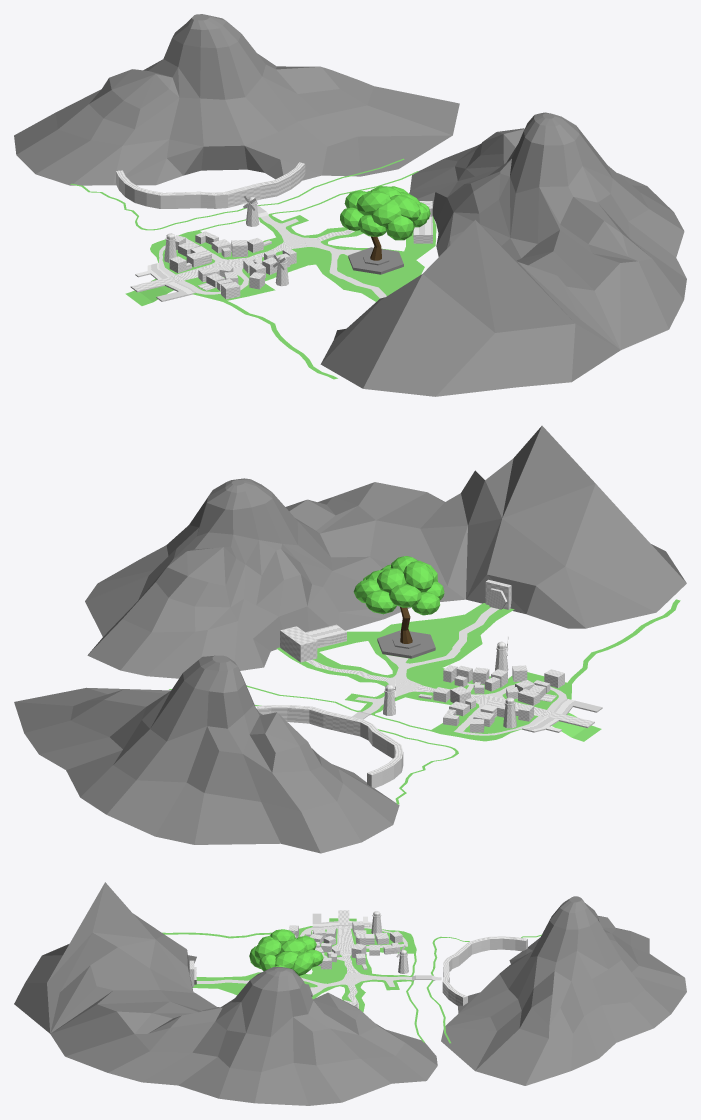
The model's file is main_map_pre-alpha.fbx.
3 views of the same model, one above another, from view 1: azimuth 30°, elevation 25°; view 2: azimuth 150°, elevation 25°; view 3: azimuth 270°, elevation 25° (orthographic). The views are drawn at different scales.
Parts seen in each view (by area): view 1: Cone.002, Cone.001, Plane.003, Icosphere.005, Cube.017, Plane, Cube.005, Plane.004; view 2: Cone.002, Cone.001, Plane.003, Icosphere.005, Plane, Cube.017, Cube.018, Cube.005, Plane.004; view 3: Cone.002, Cone.001, Plane.003, Icosphere.005, Plane, Cube.017, Cube.005.
Boxes of the visible parts, bbox=[...] form: Cone.002: bbox=[320, 112, 686, 396]; Cone.001: bbox=[14, 14, 459, 185]; Plane.003: bbox=[70, 158, 436, 379]; Icosphere.005: bbox=[340, 186, 430, 240]; Cube.017: bbox=[116, 162, 305, 208]; Plane: bbox=[159, 202, 386, 298]; Cube.005: bbox=[130, 263, 195, 301]; Plane.004: bbox=[348, 247, 403, 274]; Cone.002: bbox=[85, 425, 686, 678]; Cone.001: bbox=[14, 655, 399, 853]; Plane.003: bbox=[169, 599, 680, 804]; Icosphere.005: bbox=[353, 556, 444, 615]; Plane: bbox=[306, 607, 566, 735]; Cube.017: bbox=[256, 705, 403, 788]; Cube.018: bbox=[280, 624, 346, 662]; Cube.005: bbox=[522, 698, 602, 732]; Plane.004: bbox=[377, 630, 435, 658]; Cone.002: bbox=[14, 882, 437, 1105]; Cone.001: bbox=[441, 896, 686, 1085]; Plane.003: bbox=[162, 918, 541, 1043]; Icosphere.005: bbox=[249, 929, 323, 975]; Plane: bbox=[196, 926, 441, 1008]; Cube.017: bbox=[442, 936, 527, 1005]; Cube.005: bbox=[312, 910, 372, 927].
Bounding box in the file's own units: 24607 × 6690 × 35906.
